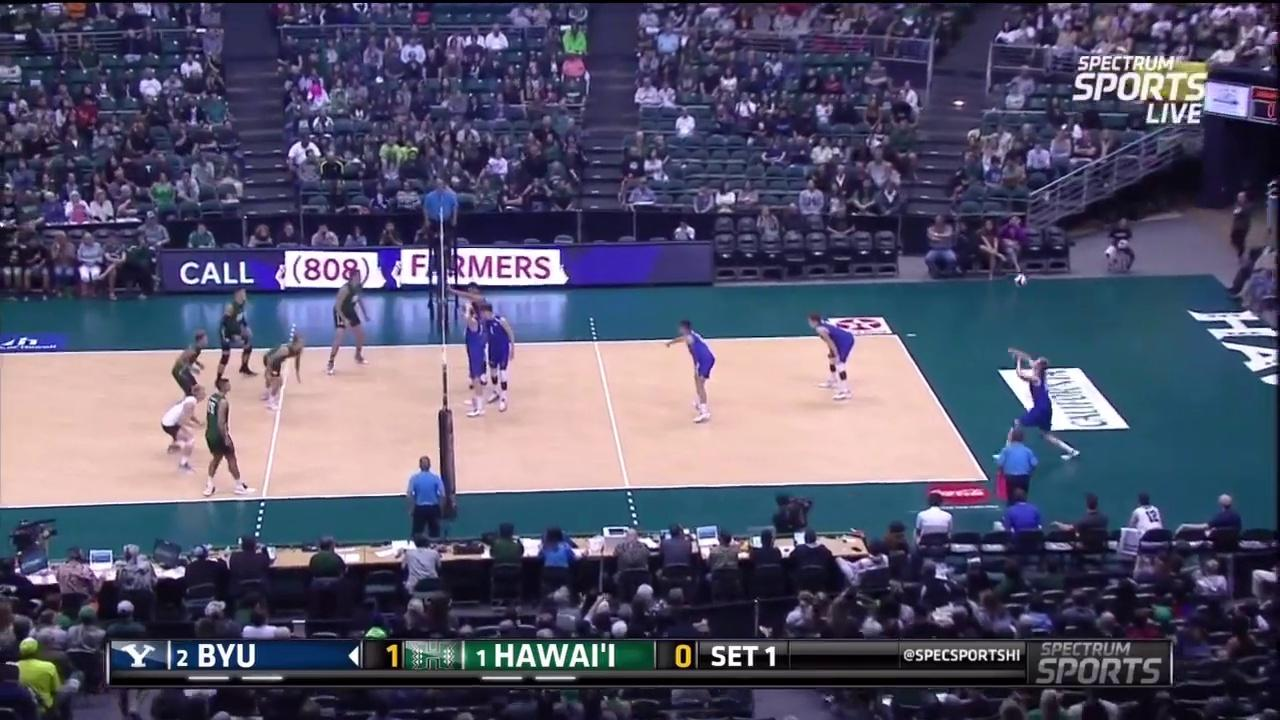player: (1001, 337, 1081, 461), (193, 376, 262, 504), (804, 312, 864, 402), (214, 277, 256, 392), (327, 265, 370, 375), (667, 320, 714, 420), (453, 301, 493, 417), (166, 329, 213, 424), (159, 385, 209, 472), (479, 301, 518, 412), (263, 332, 309, 415), (459, 281, 491, 400)
refree: (415, 174, 463, 269), (404, 456, 457, 541), (998, 425, 1043, 511)
